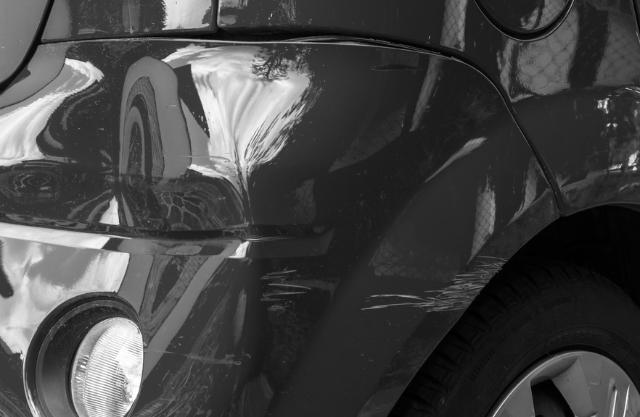Bumper: (160, 39, 506, 360)
